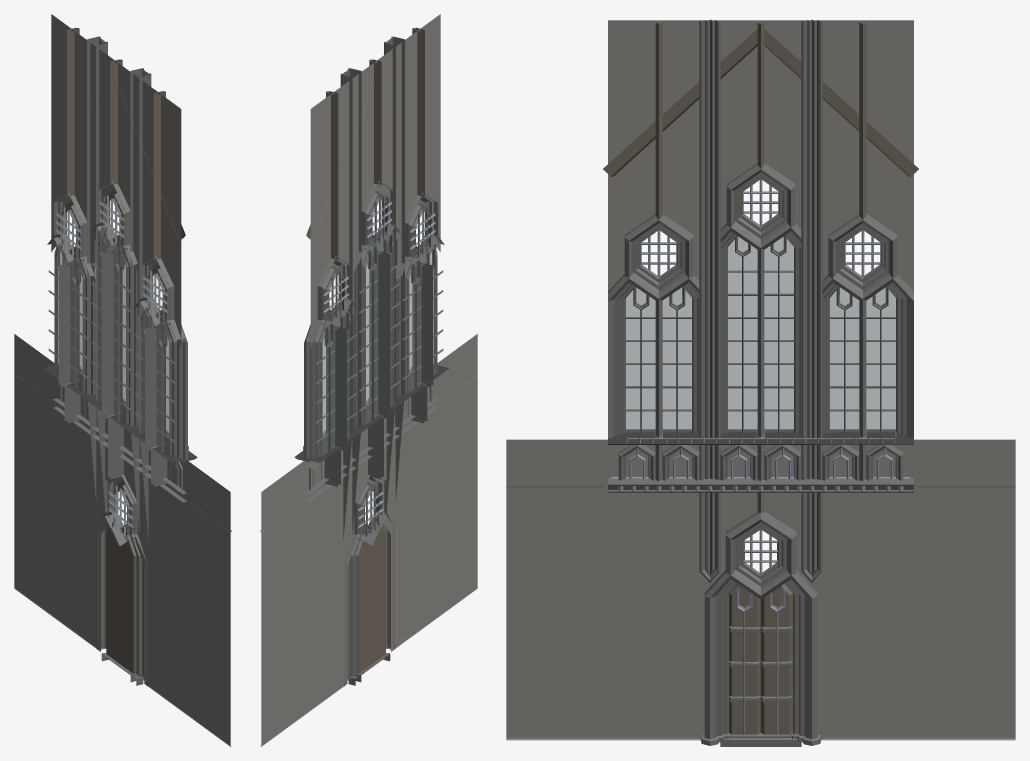
File: Door_Tile.fbx
The picture shows the model from 3 angles, left to right: view 1: azimuth 30°, elevation 25°; view 2: azimuth 150°, elevation 25°; view 3: azimuth 270°, elevation 25°; orthographic projection. The views are drawn at different scales.
Visible parts, largest first — view 1: pCube223, pCube566, pCube304, pCube217, pCube210, pCube303, pCube147, polySurface233, polySurface130, pCube551, polySurface433 (×2), polySurface115 (+24 smaller); view 2: pCube566, pCube223, pCube217, pCube304, pCube303, pCube210, pCube147, polySurface156, polySurface130, polySurface433 (×2), pCube551, polySurface115 (+24 smaller); view 3: pCube223, pCube566, pCube217, pCube304, pCube303, pCube210, polySurface130, pCube147, pCube551, polySurface433 (×2), polySurface233, polySurface156 (+28 smaller).
Part boxes in pixels (x1,y1,x2,y2): pCube223: [187, 460, 230, 746]; pCube566: [14, 334, 57, 619]; pCube304: [144, 450, 187, 714]; pCube217: [57, 380, 100, 651]; pCube210: [138, 77, 181, 346]; pCube303: [51, 14, 94, 283]; pCube147: [94, 46, 137, 271]; polySurface233: [134, 256, 187, 460]; polySurface130: [96, 40, 145, 534]; pCube551: [96, 474, 147, 686]; polySurface433 (×2): [106, 528, 133, 673]; polySurface115: [90, 181, 139, 426]; pCube566: [261, 460, 304, 746]; pCube223: [434, 334, 477, 619]; pCube217: [304, 450, 347, 714]; pCube304: [391, 380, 434, 651]; pCube303: [310, 77, 353, 346]; pCube210: [397, 14, 440, 283]; pCube147: [354, 46, 397, 272]; polySurface156: [304, 256, 357, 460]; polySurface130: [346, 40, 395, 534]; polySurface433 (×2): [358, 528, 385, 673]; pCube551: [344, 474, 395, 686]; polySurface115: [352, 181, 401, 426]; pCube223: [506, 439, 607, 738]; pCube566: [914, 439, 1015, 738]; pCube217: [812, 444, 913, 738]; pCube304: [608, 445, 709, 738]; pCube303: [814, 20, 913, 290]; pCube210: [608, 20, 707, 290]; polySurface130: [710, 19, 811, 582]; pCube147: [712, 20, 809, 228]; pCube551: [700, 511, 821, 745]; polySurface433 (×2): [729, 584, 792, 734]; polySurface233: [608, 214, 699, 438]; polySurface156: [822, 214, 913, 438].
Bounding box in the file's own units: 1.65 × 31.43 × 20.
